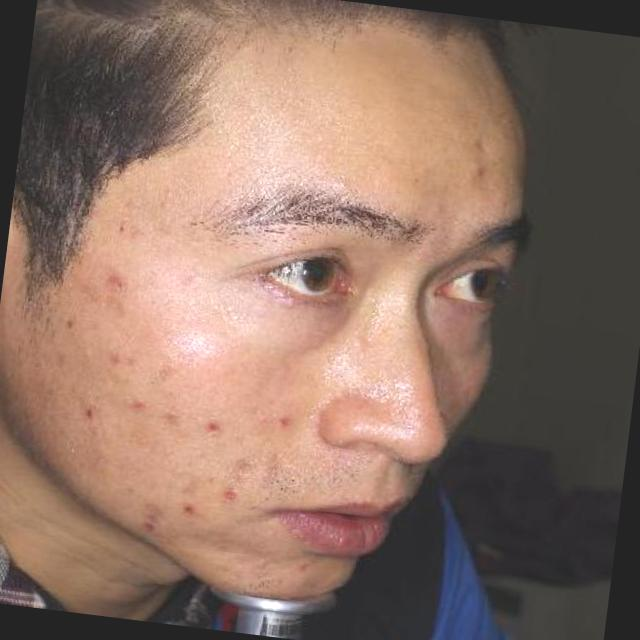acne: (96, 264, 135, 295), (231, 450, 262, 476)
blackhead: (192, 412, 235, 439), (267, 406, 304, 436), (75, 400, 106, 425), (56, 314, 82, 337)
nodules: (458, 159, 497, 185), (177, 496, 206, 524), (218, 482, 246, 508), (121, 394, 152, 415)
